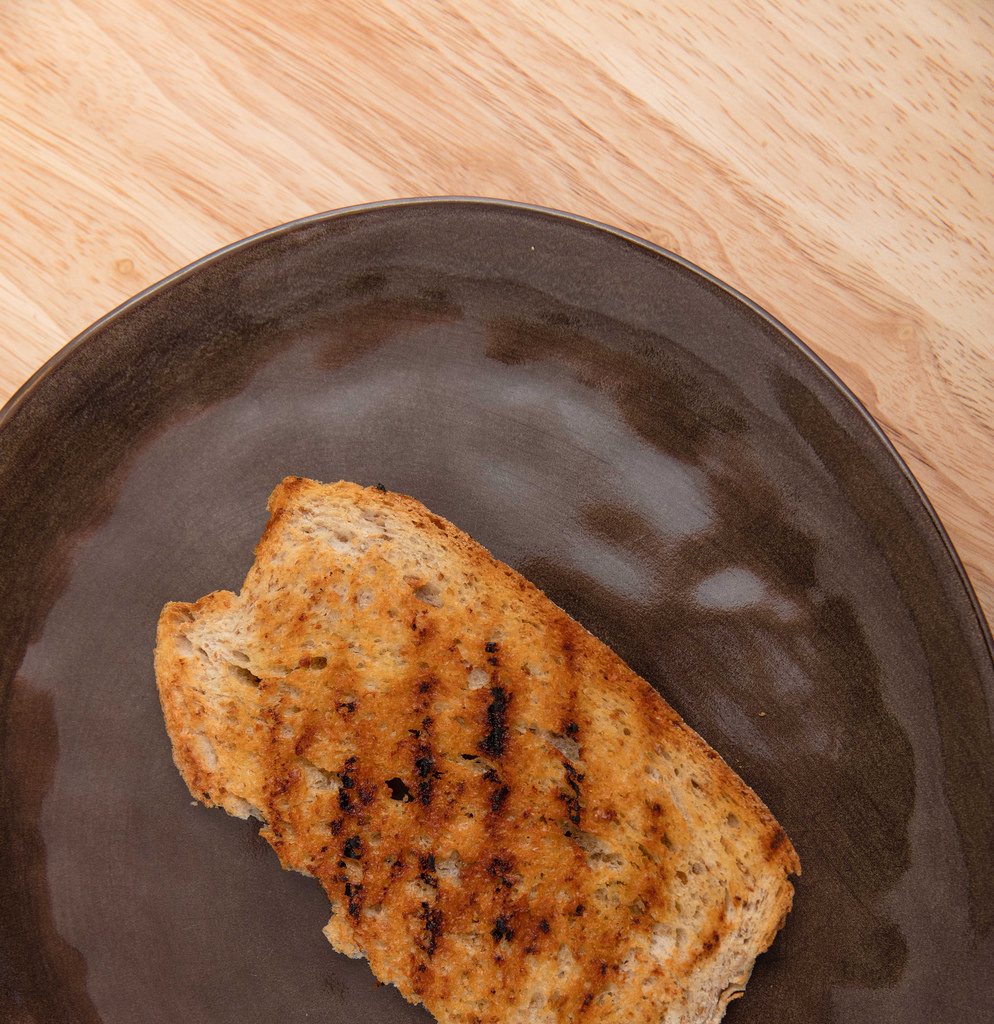slice of bread: (142, 474, 807, 1024)
